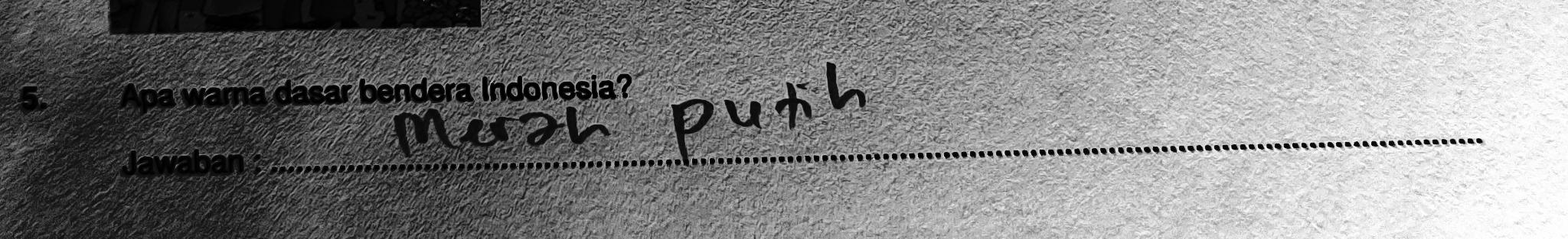jawaban: (665, 54, 870, 160), (392, 103, 612, 158)
